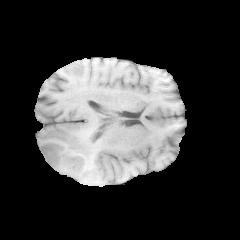glioma: (41, 130, 102, 177)
